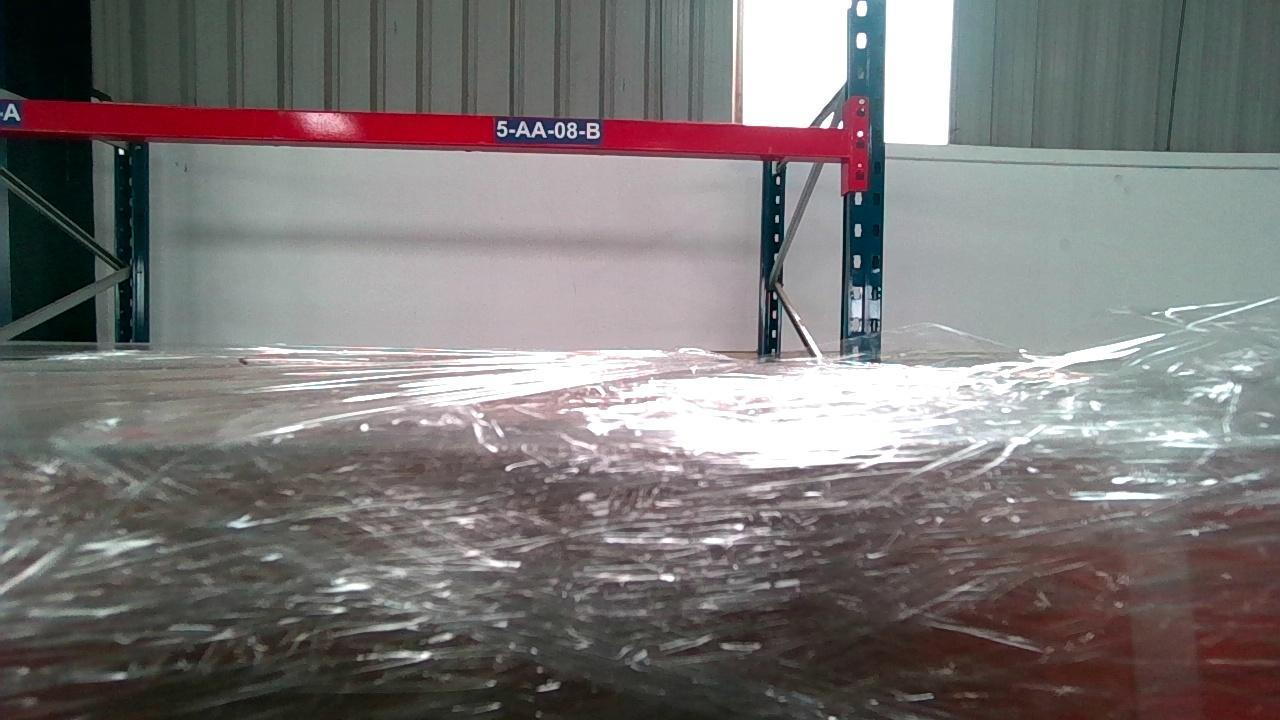h_rack: (0, 97, 858, 157)
